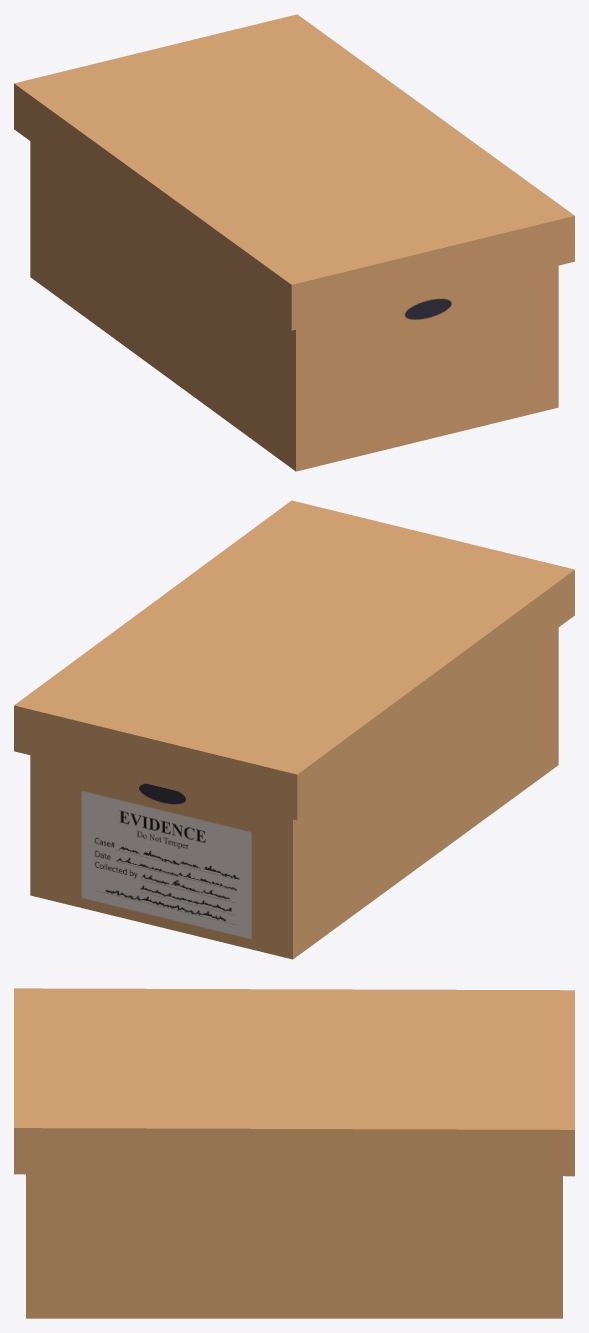
The model's file is EvidenceboxClosed.fbx.
The picture shows the model from 3 angles, top to bottom: view 1: azimuth 30°, elevation 25°; view 2: azimuth 150°, elevation 25°; view 3: azimuth 270°, elevation 25°; orthographic projection.
Visible parts, largest first — view 1: evidence_box3; view 2: evidence_box3; view 3: evidence_box3.
Boxes of the visible parts, x1,y1,x2,y2 form: evidence_box3: (14,14,574,471); evidence_box3: (14,500,574,959); evidence_box3: (14,988,574,1318).
Size of the model in its own units: 2.11 by 1.38 by 3.59.
Materials: 1 (1 with a texture image).
